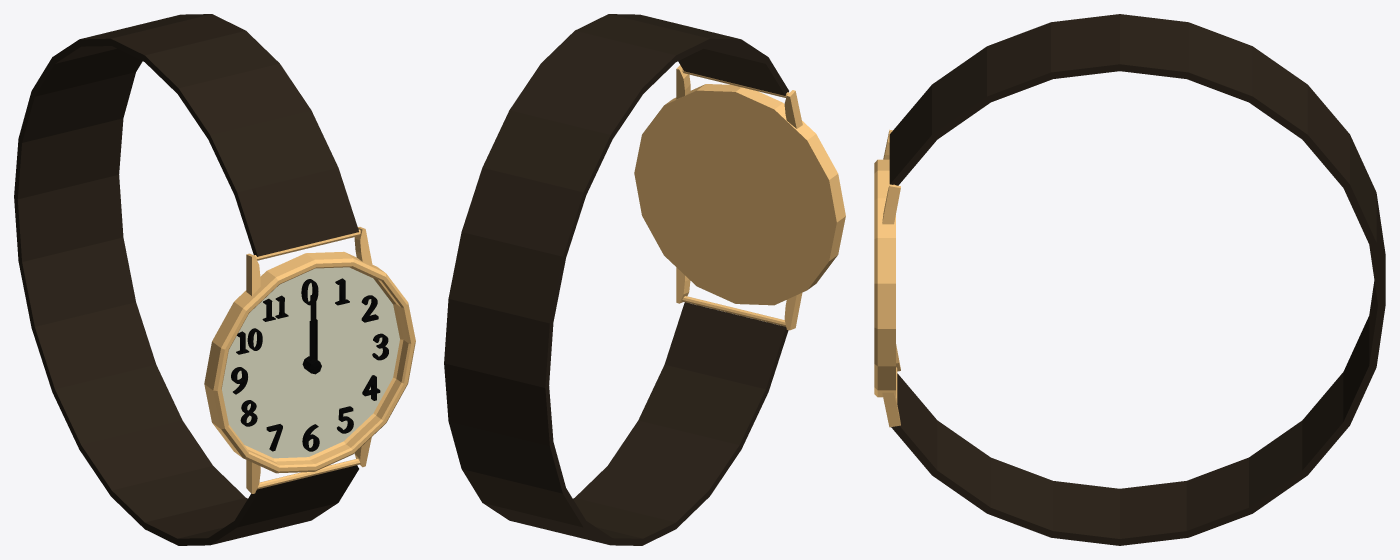
File: theme02_watch04.fbx
3 renders of one model, left to right at view 1: azimuth 30°, elevation 25°; view 2: azimuth 150°, elevation 25°; view 3: azimuth 270°, elevation 25°, orthographic.
Parts seen in each view (by area): view 1: watch04final; view 2: watch04final; view 3: watch04final.
Part boxes in pixels (box(x1,y1,x2,y2)): watch04final: box(14, 14, 415, 545); watch04final: box(444, 14, 845, 545); watch04final: box(874, 14, 1385, 545).
Size of the model in its own units: 45.16 by 101 by 97.08.
